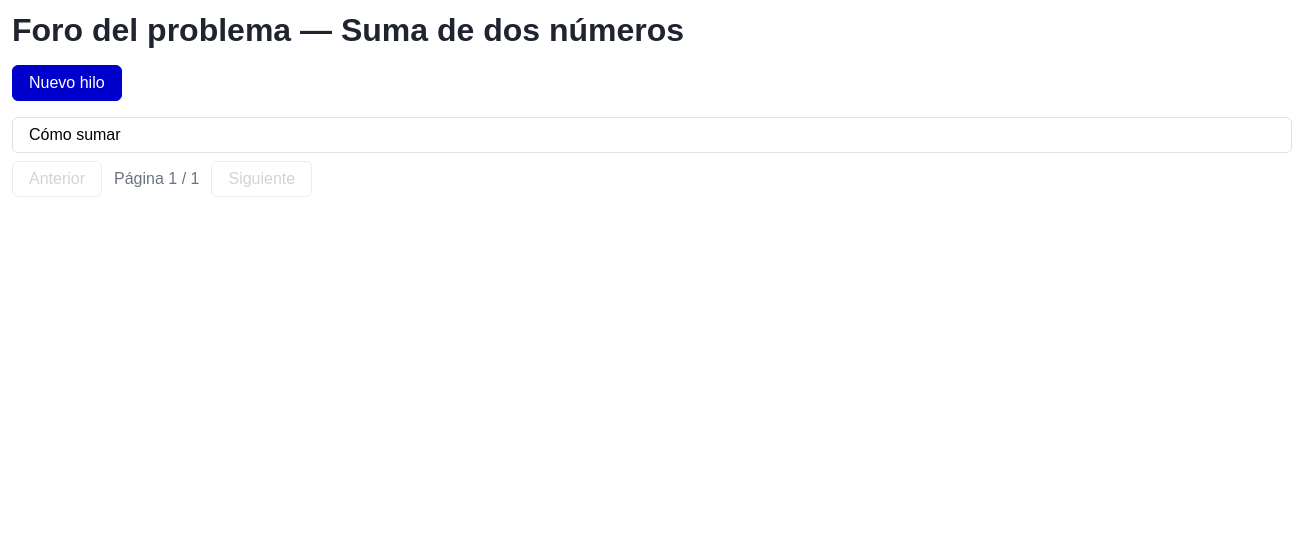
ThreadDetail — nested reply tree › treats an orphaned parent_id (missing parent) as top-level
Expected: the element with test id "forum-page" is shown, [12,12,1292,197]
What coordinates should you click on to do the following:
click the button with test id "thread-2"
I would click on:
 (75, 134)
Its box is [12,117,1292,153].
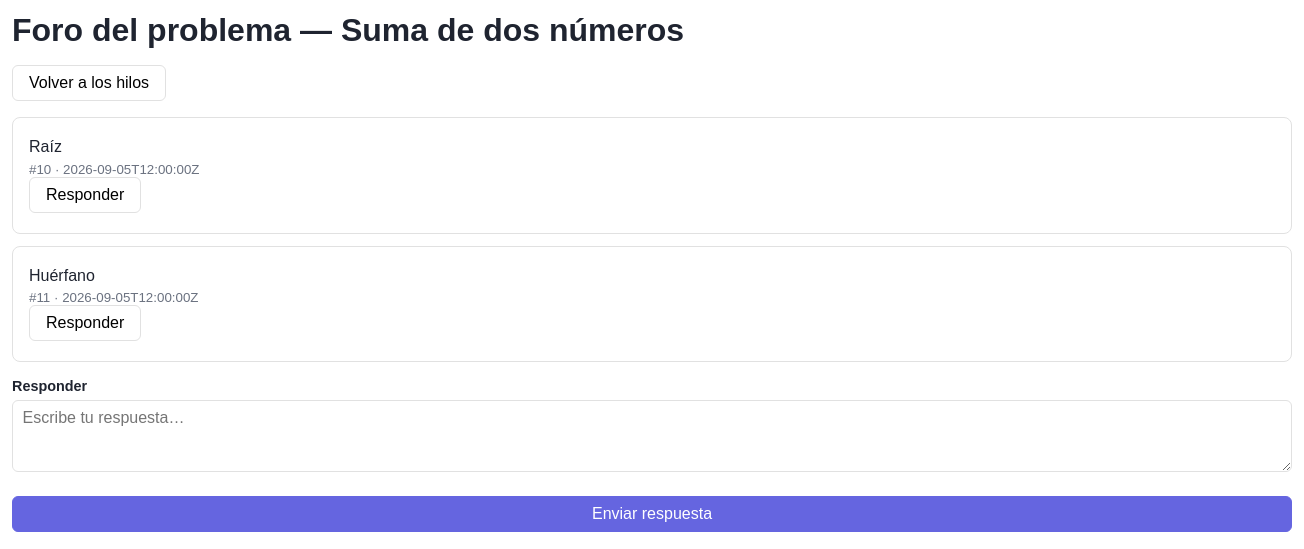
Expected: the element with test id "thread-detail" is shown
Expected: the list item with test id "post-11" is shown, [12,246,1292,362]
